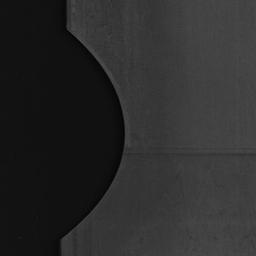Crescent gap: (62, 31, 125, 238)
